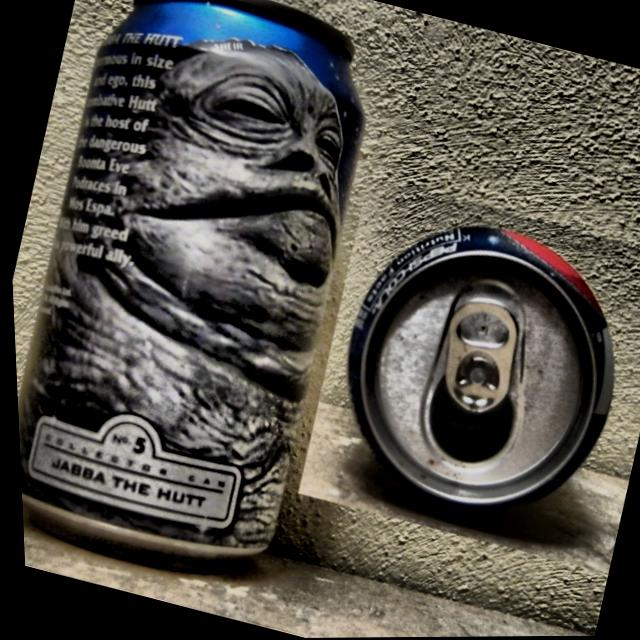Cans: (0, 0, 417, 602), (294, 177, 640, 556)
